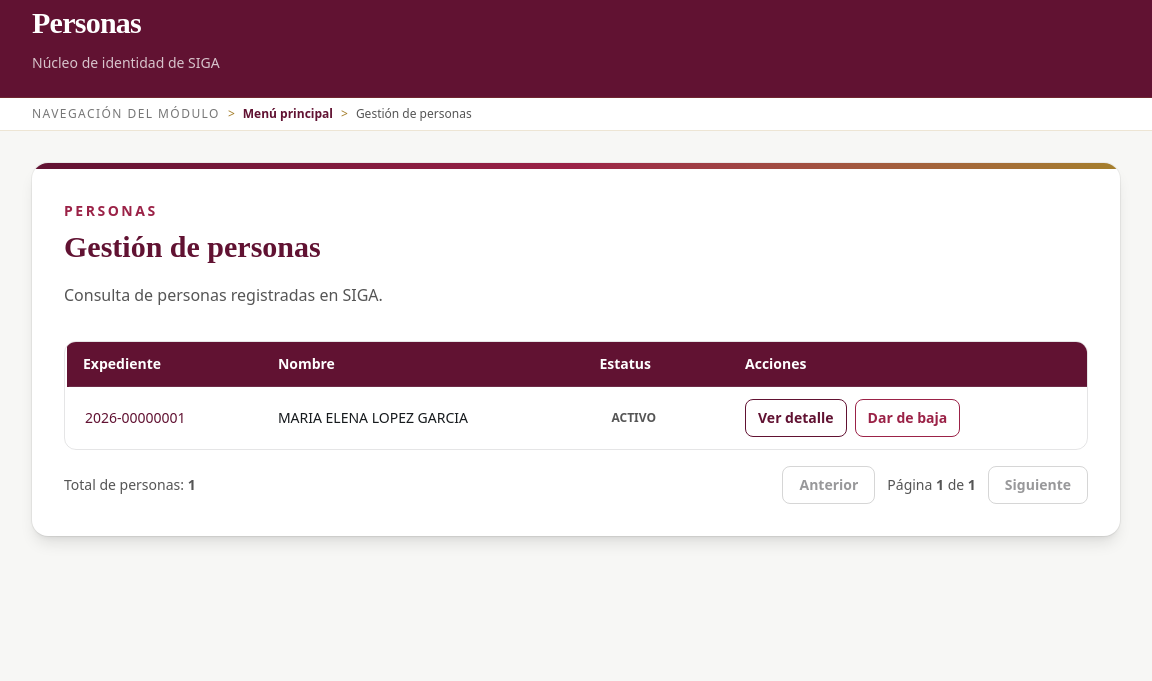
Test case: PersonasPageComponent › no da de baja a la persona cuando falla la reautenticacion
Click the button with test id "persona-withdraw": (907, 418) [855,399,960,437]
(page scrolled)
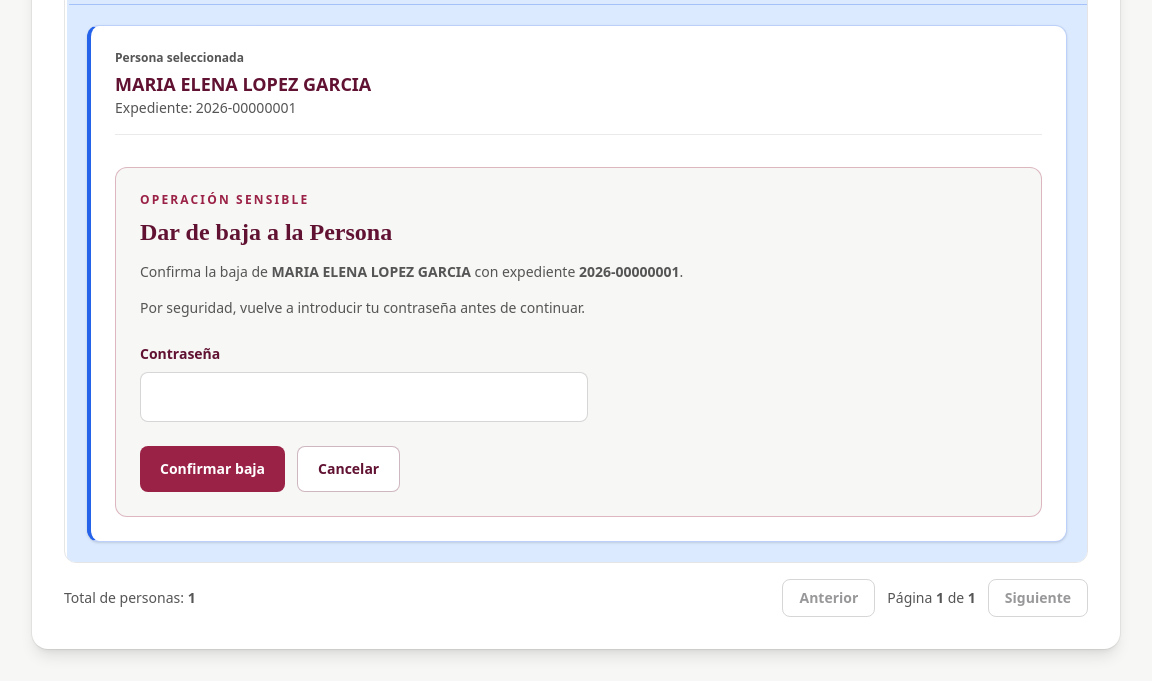
In the password field with test id "persona-withdraw-password": (364, 397) [140,372,588,422], type "contraseña-incorrecta"
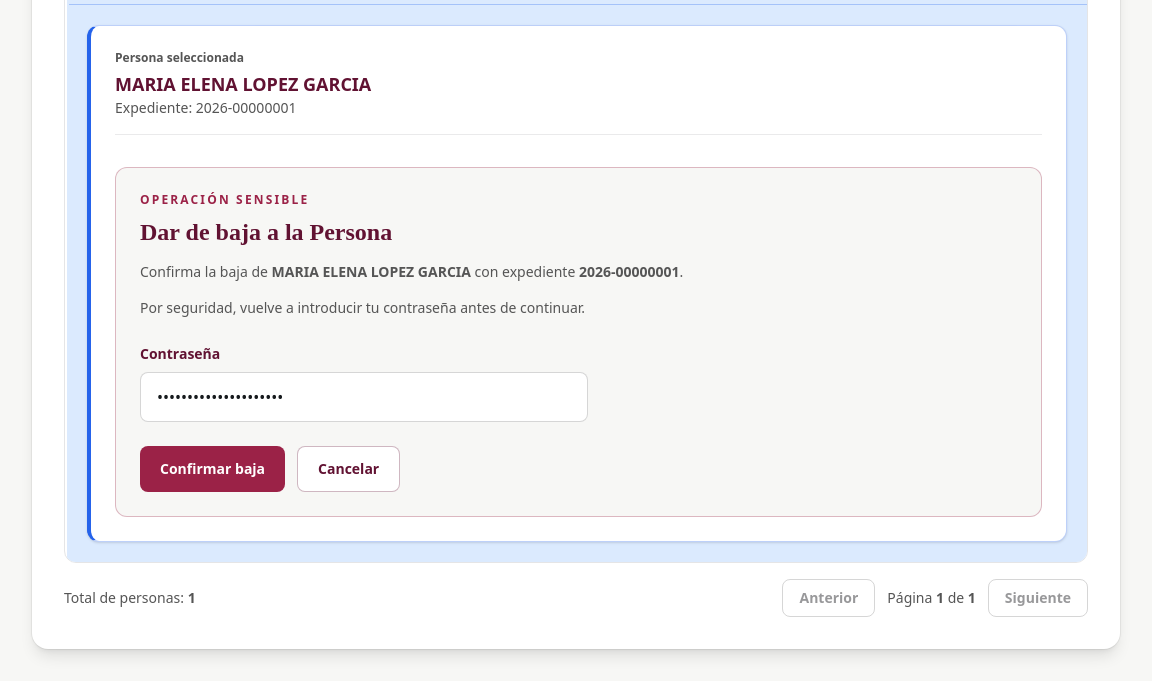
Click the button with test id "persona-withdraw-submit": (213, 469) [140,446,285,492]
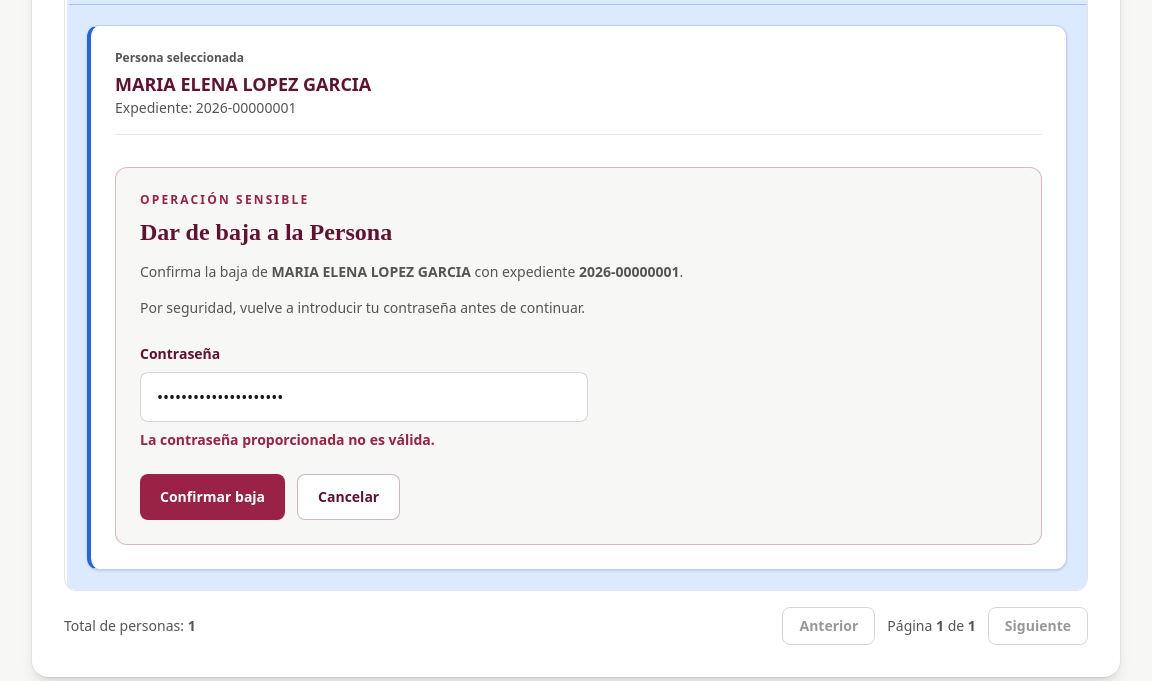
expect the form with test id "persona-withdraw-form" is shown: met, box [115,167,1042,545]
expect the message with test id "persona-withdraw-password-error" reads "La contraseña proporcionada no es válida.": met, box [140,430,435,449]
